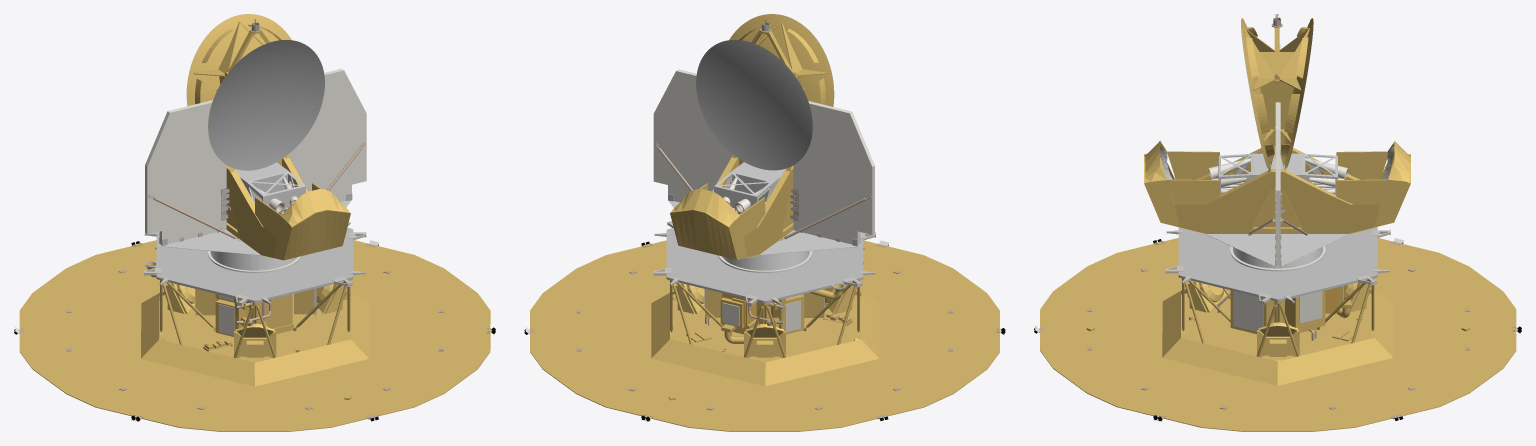
File: Wilkinson Microwave Anisotropy Probe (WMAP).glb
3 renders of one model, left to right at view 1: azimuth 30°, elevation 25°; view 2: azimuth 150°, elevation 25°; view 3: azimuth 270°, elevation 25°, orthographic.
Parts seen in each view (by area): view 1: Layer_0; view 2: Layer_0; view 3: Layer_0.
Part boxes in pixels (x1,y1,x2,y2): Layer_0: [14, 14, 495, 431]; Layer_0: [524, 14, 1005, 431]; Layer_0: [1034, 14, 1521, 431].
Size of the model in its own units: 278 by 208 by 283.
